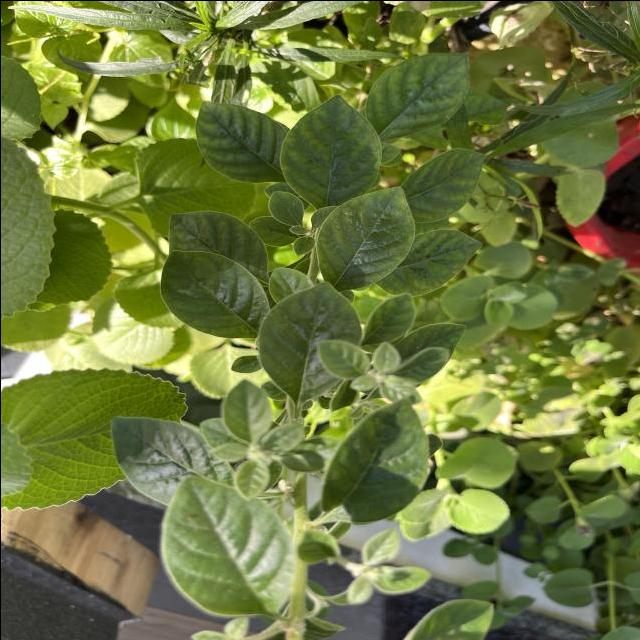Aerva lanata: (276, 90, 384, 208), (313, 183, 417, 293), (157, 247, 272, 339), (362, 48, 472, 142), (192, 99, 288, 185), (394, 146, 490, 226)
